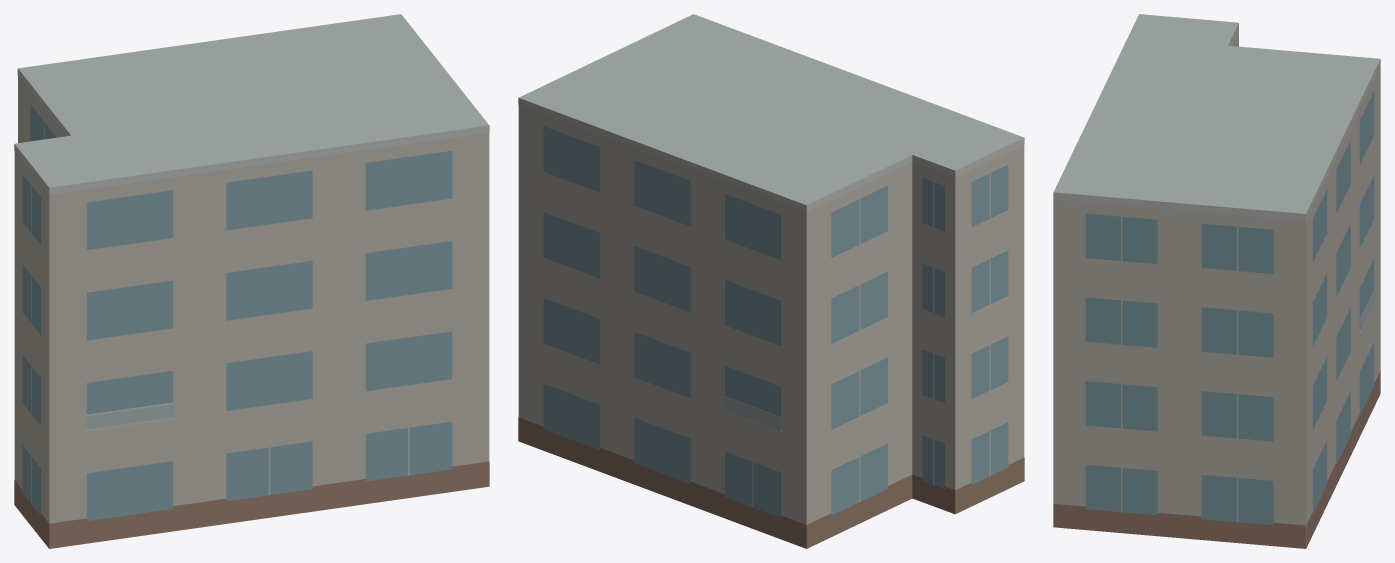
Rendered from residential-28738a9b-f0c6-4921-8218-c28be7742a62.glb.
3 views of the same model, side by side, from view 1: azimuth 30°, elevation 25°; view 2: azimuth 150°, elevation 25°; view 3: azimuth 270°, elevation 25° (orthographic). The views are drawn at different scales.
Visible parts, largest first — view 1: residential-28738a9b-f0c6-4921-8218-c28be7742a62.tmp; view 2: residential-28738a9b-f0c6-4921-8218-c28be7742a62.tmp; view 3: residential-28738a9b-f0c6-4921-8218-c28be7742a62.tmp.
Boxes of the visible parts, x1,y1,x2,y2 form: residential-28738a9b-f0c6-4921-8218-c28be7742a62.tmp: (14,14,489,548); residential-28738a9b-f0c6-4921-8218-c28be7742a62.tmp: (518,14,1024,548); residential-28738a9b-f0c6-4921-8218-c28be7742a62.tmp: (1053,14,1380,548).
Bounding box in the file's own units: 15.63 × 12.2 × 10.81.
